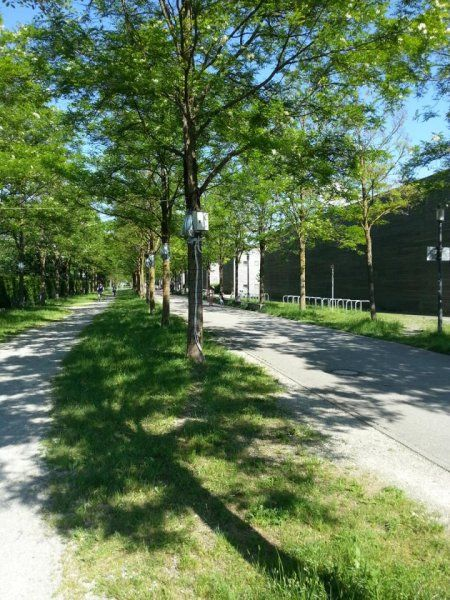tree: (28, 1, 430, 371)
